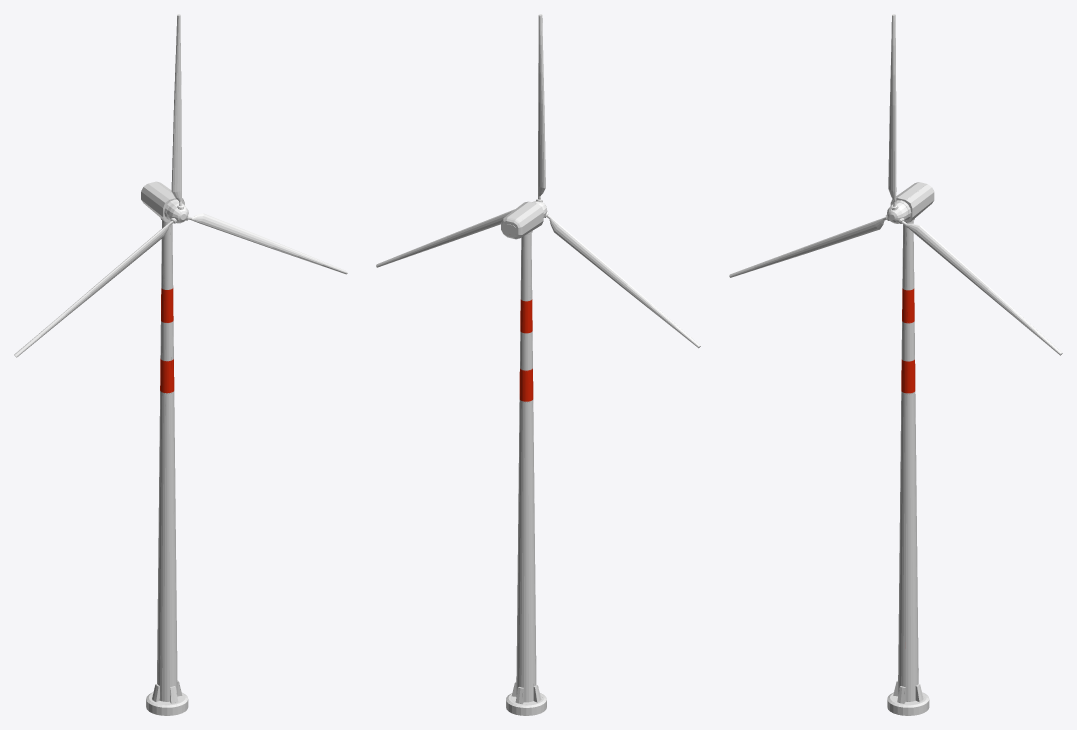
The model's file is windturbine.gltf.
The picture shows the model from 3 angles, left to right: view 1: azimuth 30°, elevation 25°; view 2: azimuth 150°, elevation 25°; view 3: azimuth 330°, elevation 25°; orthographic projection. The views are drawn at different scales.
Parts seen in each view (by area): view 1: Cylinder, Cylinder001; view 2: Cylinder, Cylinder001; view 3: Cylinder, Cylinder001.
Part boxes in pixels (x1,y1,x2,y2): Cylinder: (141, 181, 188, 715); Cylinder001: (14, 14, 347, 357); Cylinder: (501, 201, 546, 715); Cylinder001: (376, 14, 700, 348); Cylinder: (887, 182, 934, 715); Cylinder001: (729, 14, 1062, 355).
Size of the model in its own units: 18.2 by 36.71 by 3.15.
2 materials, 1 textured.
